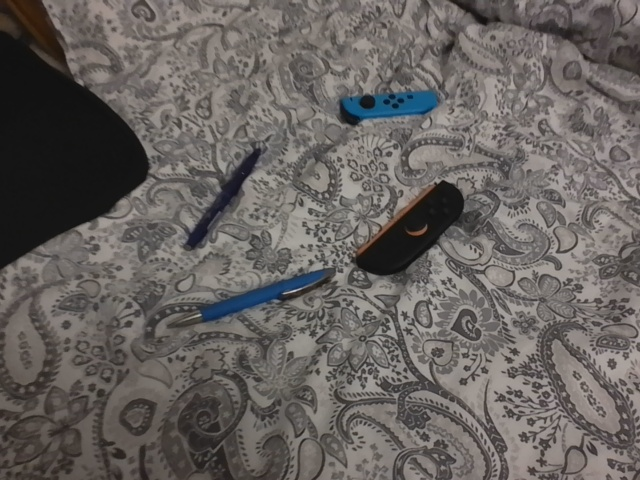joycon: (348, 181, 468, 278), (339, 87, 445, 120)
pen: (168, 264, 338, 329), (184, 148, 262, 251)
